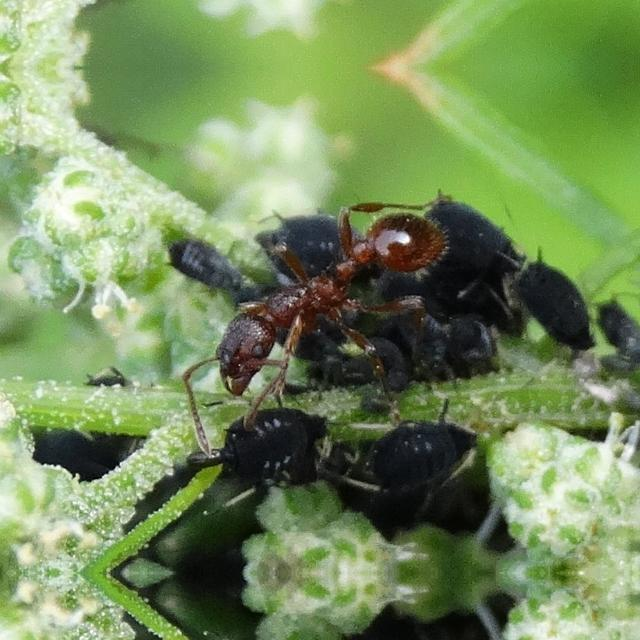Myrmica: (162, 174, 493, 416)
